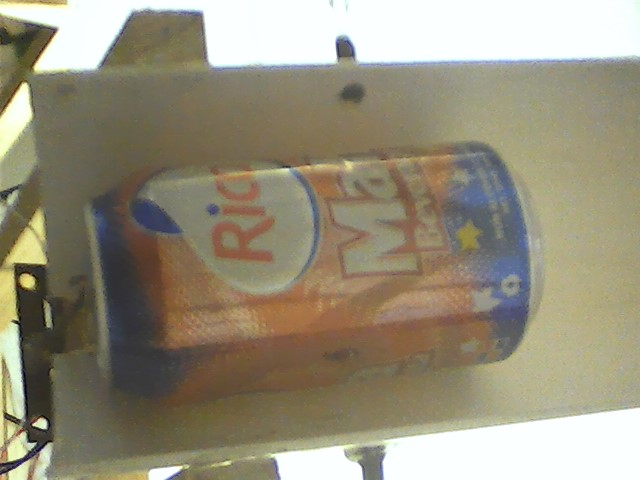lata: (80, 137, 548, 404)
